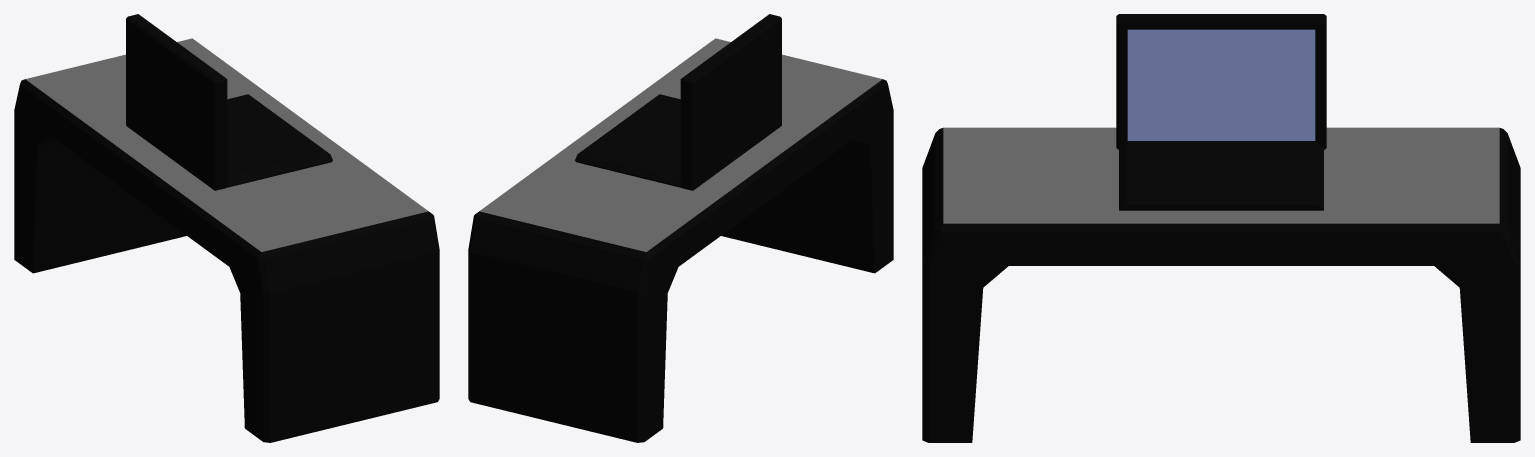
File: DeskC.fbx
The picture shows the model from 3 angles, left to right: view 1: azimuth 30°, elevation 25°; view 2: azimuth 150°, elevation 25°; view 3: azimuth 270°, elevation 25°; orthographic projection. The views are drawn at different scales.
Parts seen in each view (by area): view 1: Desk 3; view 2: Desk 3; view 3: Desk 3.
Part boxes in pixels (x1,y1,x2,y2): Desk 3: [14, 14, 439, 442]; Desk 3: [468, 14, 893, 442]; Desk 3: [922, 14, 1520, 442].
Size of the model in its own units: 100 by 160 by 250.
